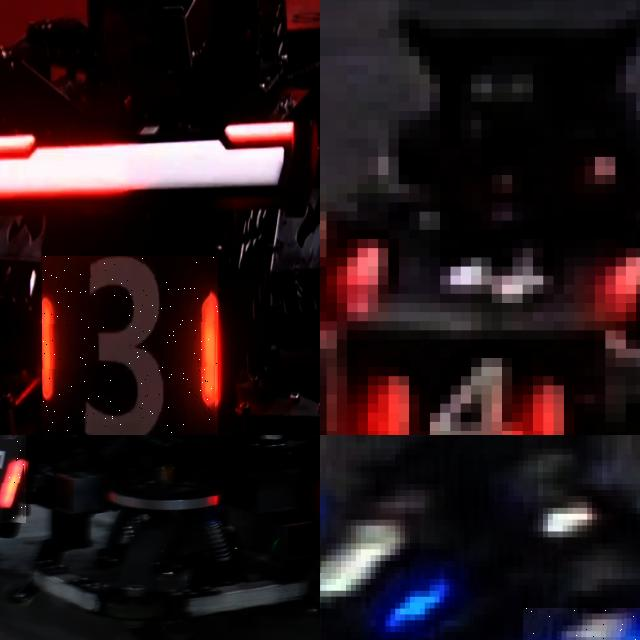R3: (41, 256, 218, 435)
R4: (320, 211, 640, 330), (357, 358, 584, 435)
Rs: (0, 435, 27, 523)
